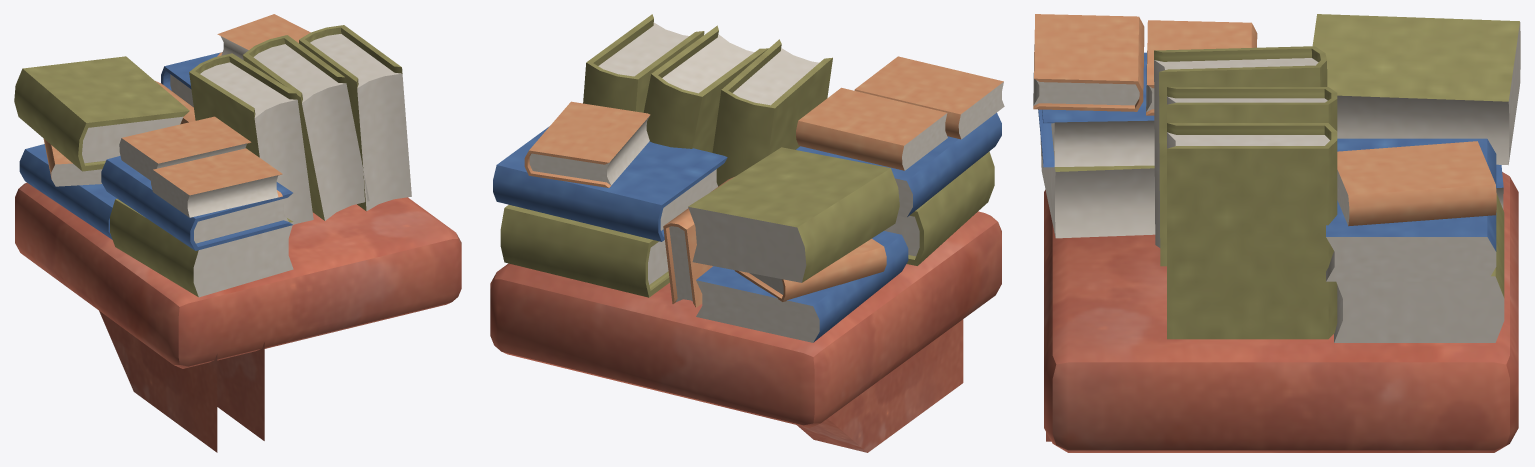
The model's file is SM_Book_Packed.fbx.
3 views of the same model, side by side, from view 1: azimuth 30°, elevation 25°; view 2: azimuth 150°, elevation 25°; view 3: azimuth 270°, elevation 25° (orthographic). The views are drawn at different scales.
Visible parts, largest first — view 1: SM_Book_Packed_01; view 2: SM_Book_Packed_01; view 3: SM_Book_Packed_01.
Part boxes in pixels (x1,y1,x2,y2): SM_Book_Packed_01: (14,14,461,452); SM_Book_Packed_01: (490,14,1004,452); SM_Book_Packed_01: (1033,14,1520,452).
Bounding box in the file's own units: 102 × 97.67 × 102.
